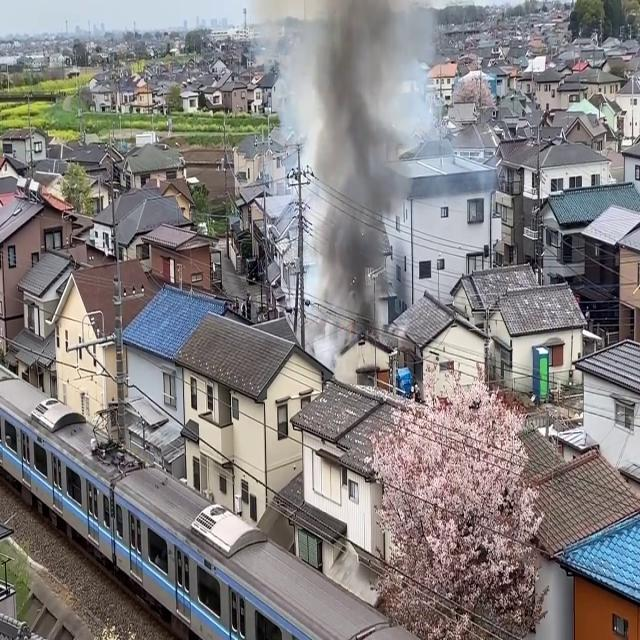Smoke: (303, 0, 409, 333)
